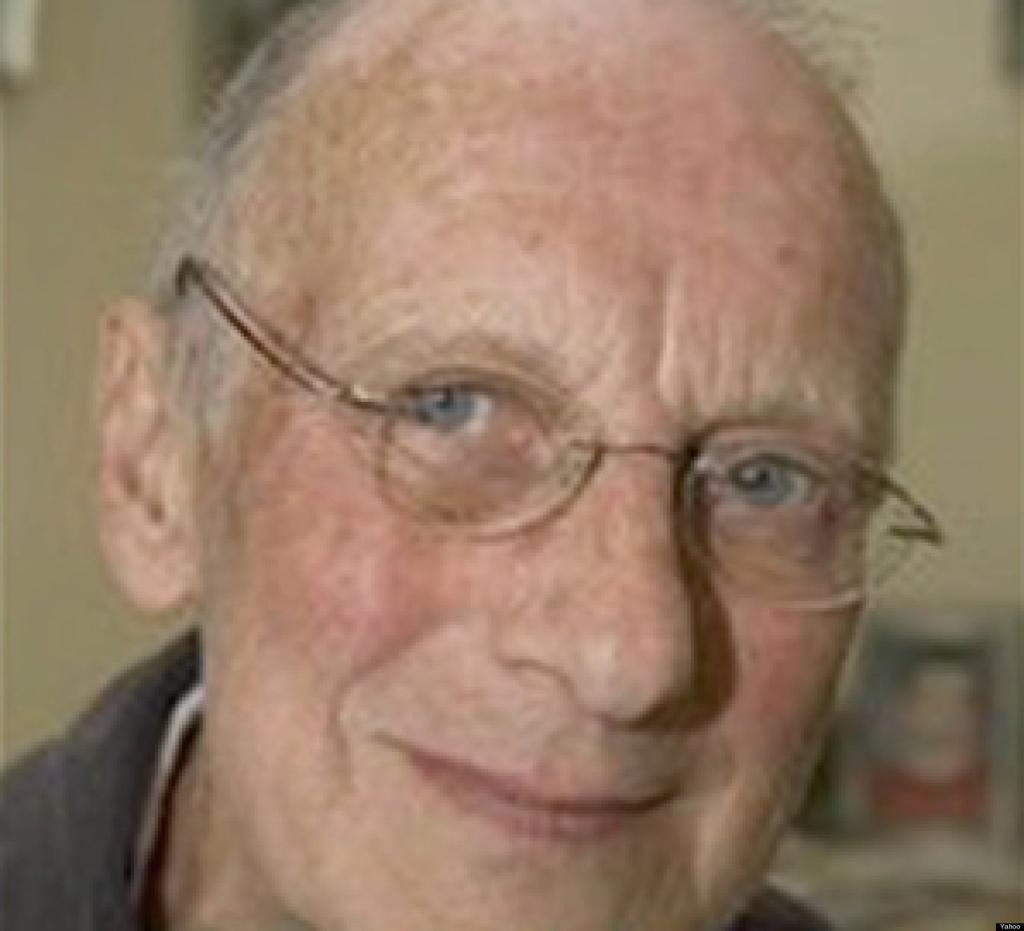face: (209, 49, 901, 929)
